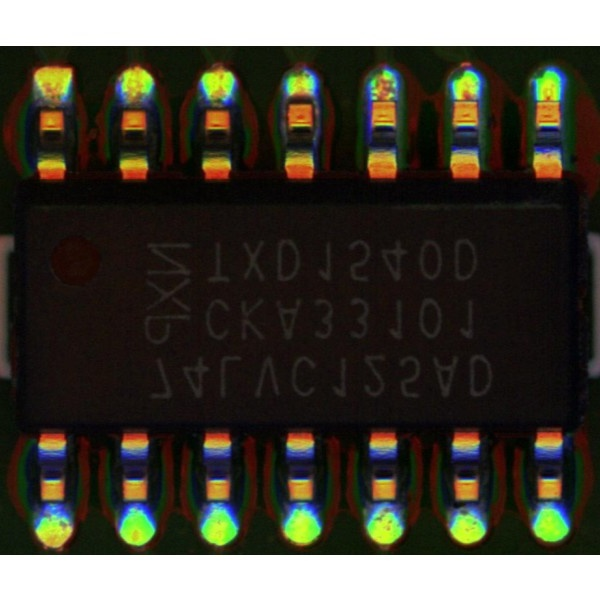Bad_podu: (540, 88, 559, 112), (373, 91, 395, 109), (457, 86, 475, 107)
